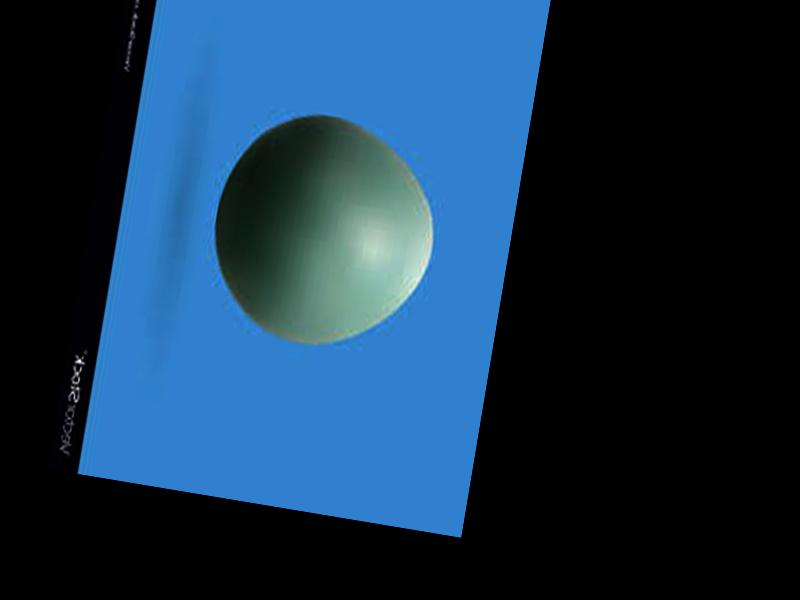Eggs: (200, 98, 451, 361)
